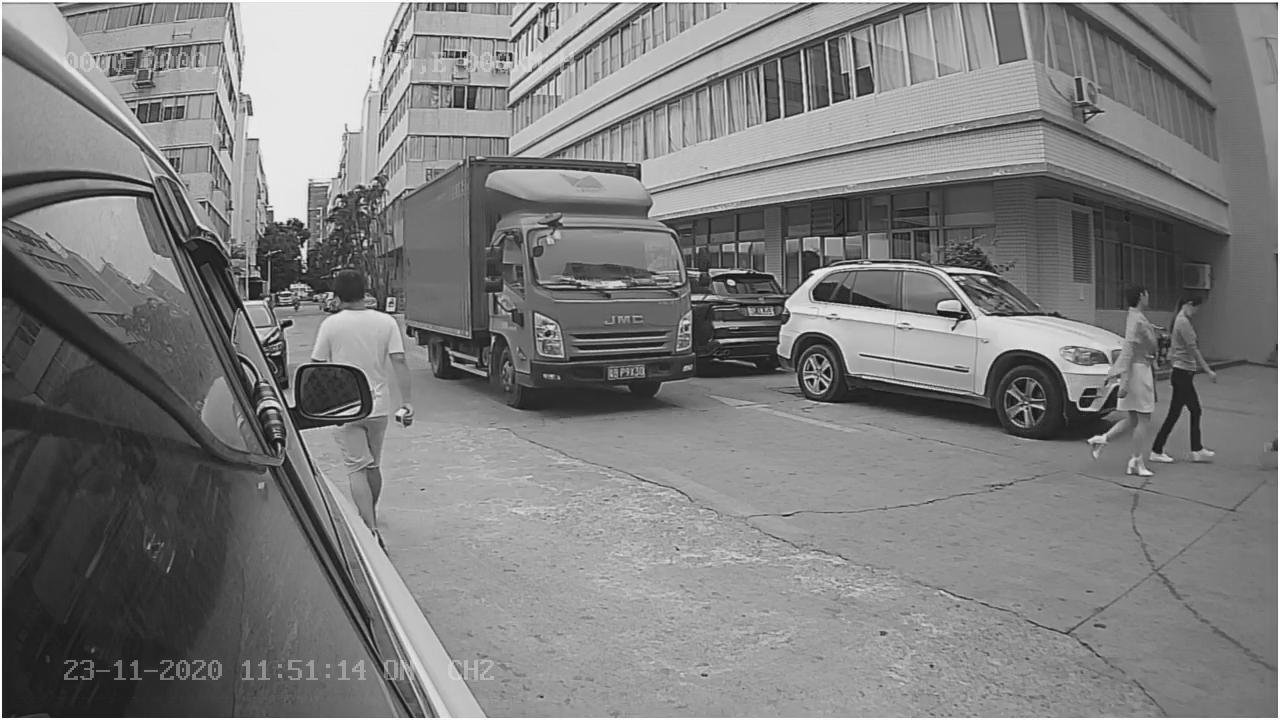person: (1086, 280, 1169, 477), (312, 272, 410, 368)
